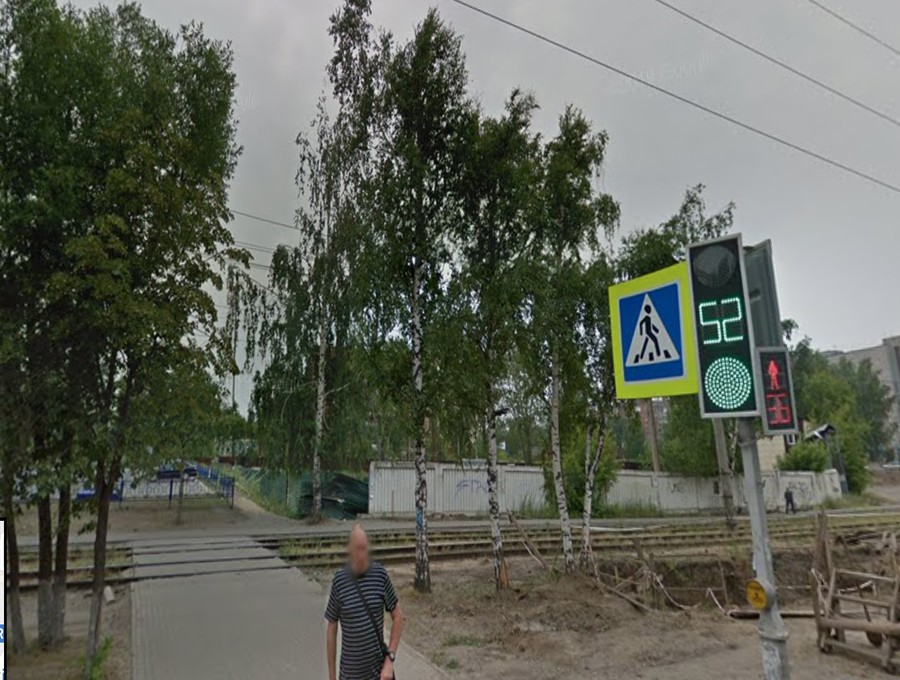Traffic Light-red: (755, 346, 797, 439)
